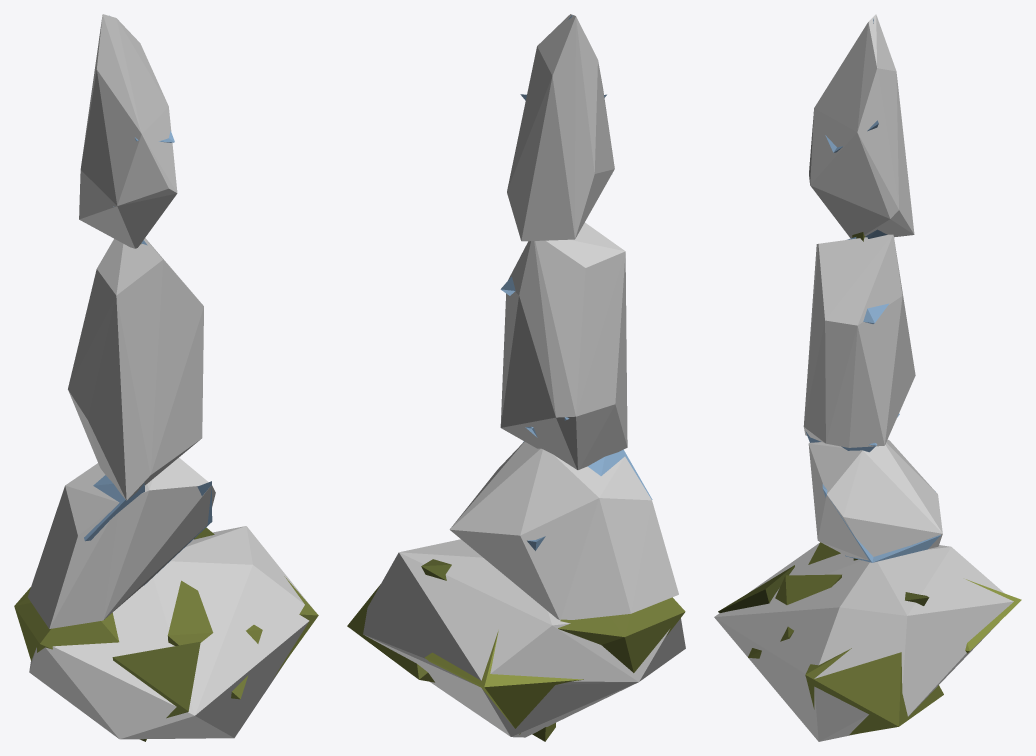
File: SM_Env_Flowers_09.fbx
The picture shows the model from 3 angles, left to right: view 1: azimuth 30°, elevation 25°; view 2: azimuth 150°, elevation 25°; view 3: azimuth 270°, elevation 25°; orthographic projection. The views are drawn at different scales.
Parts seen in each view (by area): view 1: SM_Env_Flowers_09_ConvexHulls, SM_Env_Flowers_09; view 2: SM_Env_Flowers_09_ConvexHulls, SM_Env_Flowers_09; view 3: SM_Env_Flowers_09_ConvexHulls, SM_Env_Flowers_09.
Boxes of the visible parts, x1,y1,x2,y2 form: SM_Env_Flowers_09_ConvexHulls: [28, 14, 312, 739]; SM_Env_Flowers_09: [14, 15, 318, 741]; SM_Env_Flowers_09_ConvexHulls: [363, 14, 685, 737]; SM_Env_Flowers_09: [347, 15, 685, 741]; SM_Env_Flowers_09_ConvexHulls: [714, 14, 1013, 741]; SM_Env_Flowers_09: [718, 18, 1021, 735].
Size of the model in its own units: 42.32 by 39.71 by 97.67.
2 materials, 1 textured.
